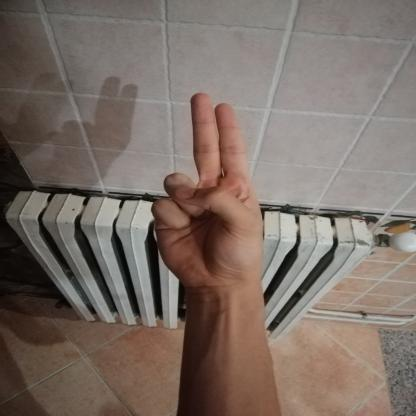TA: (131, 81, 290, 298)
